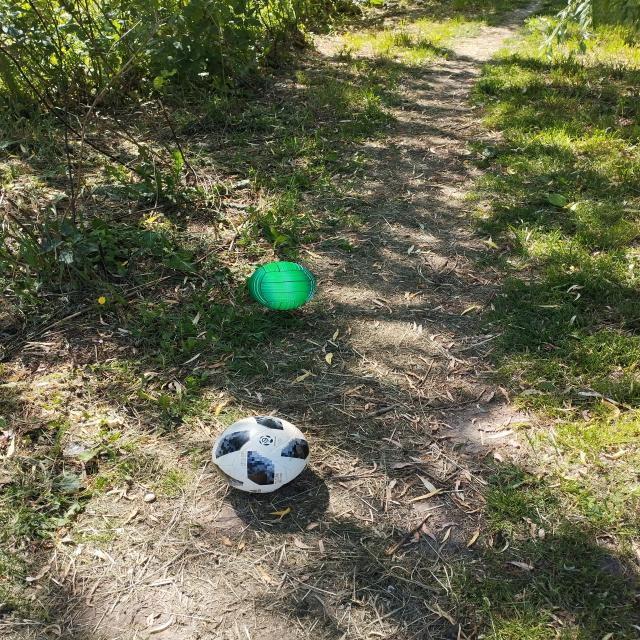nozna: (212, 416, 311, 493)
zielona: (247, 261, 316, 310)
